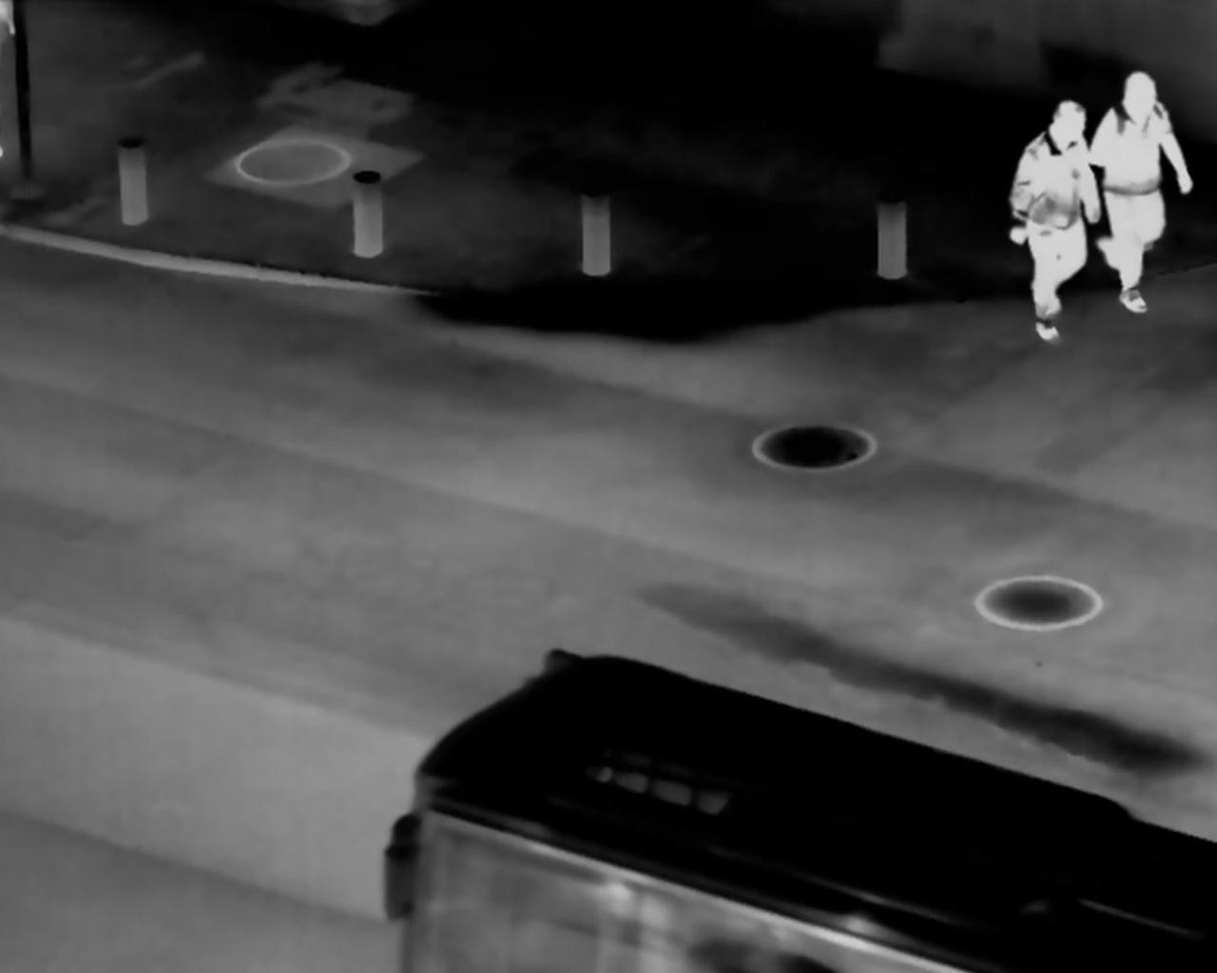person: (1096, 67, 1189, 319), (1009, 86, 1094, 338)
